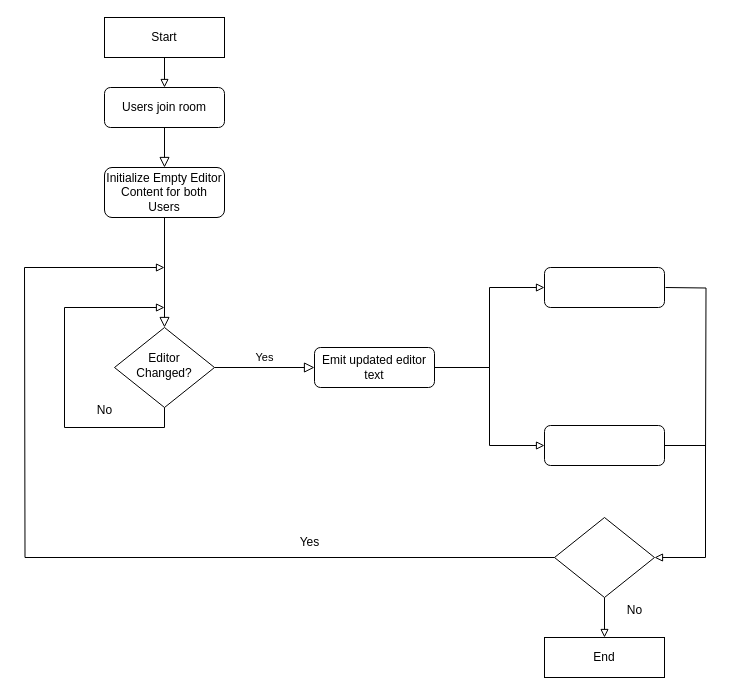
Some shapes in this 731 by 695 pixel diagram are drawn without their labels. The shapes that lost their labels are listed below. From the top down, each one's centre as x and y in pixels, then its label:
(x=604, y=287): Change User 1 Editor
(x=604, y=445): Change User 2 Editor
(x=604, y=557): Users still Connected?
